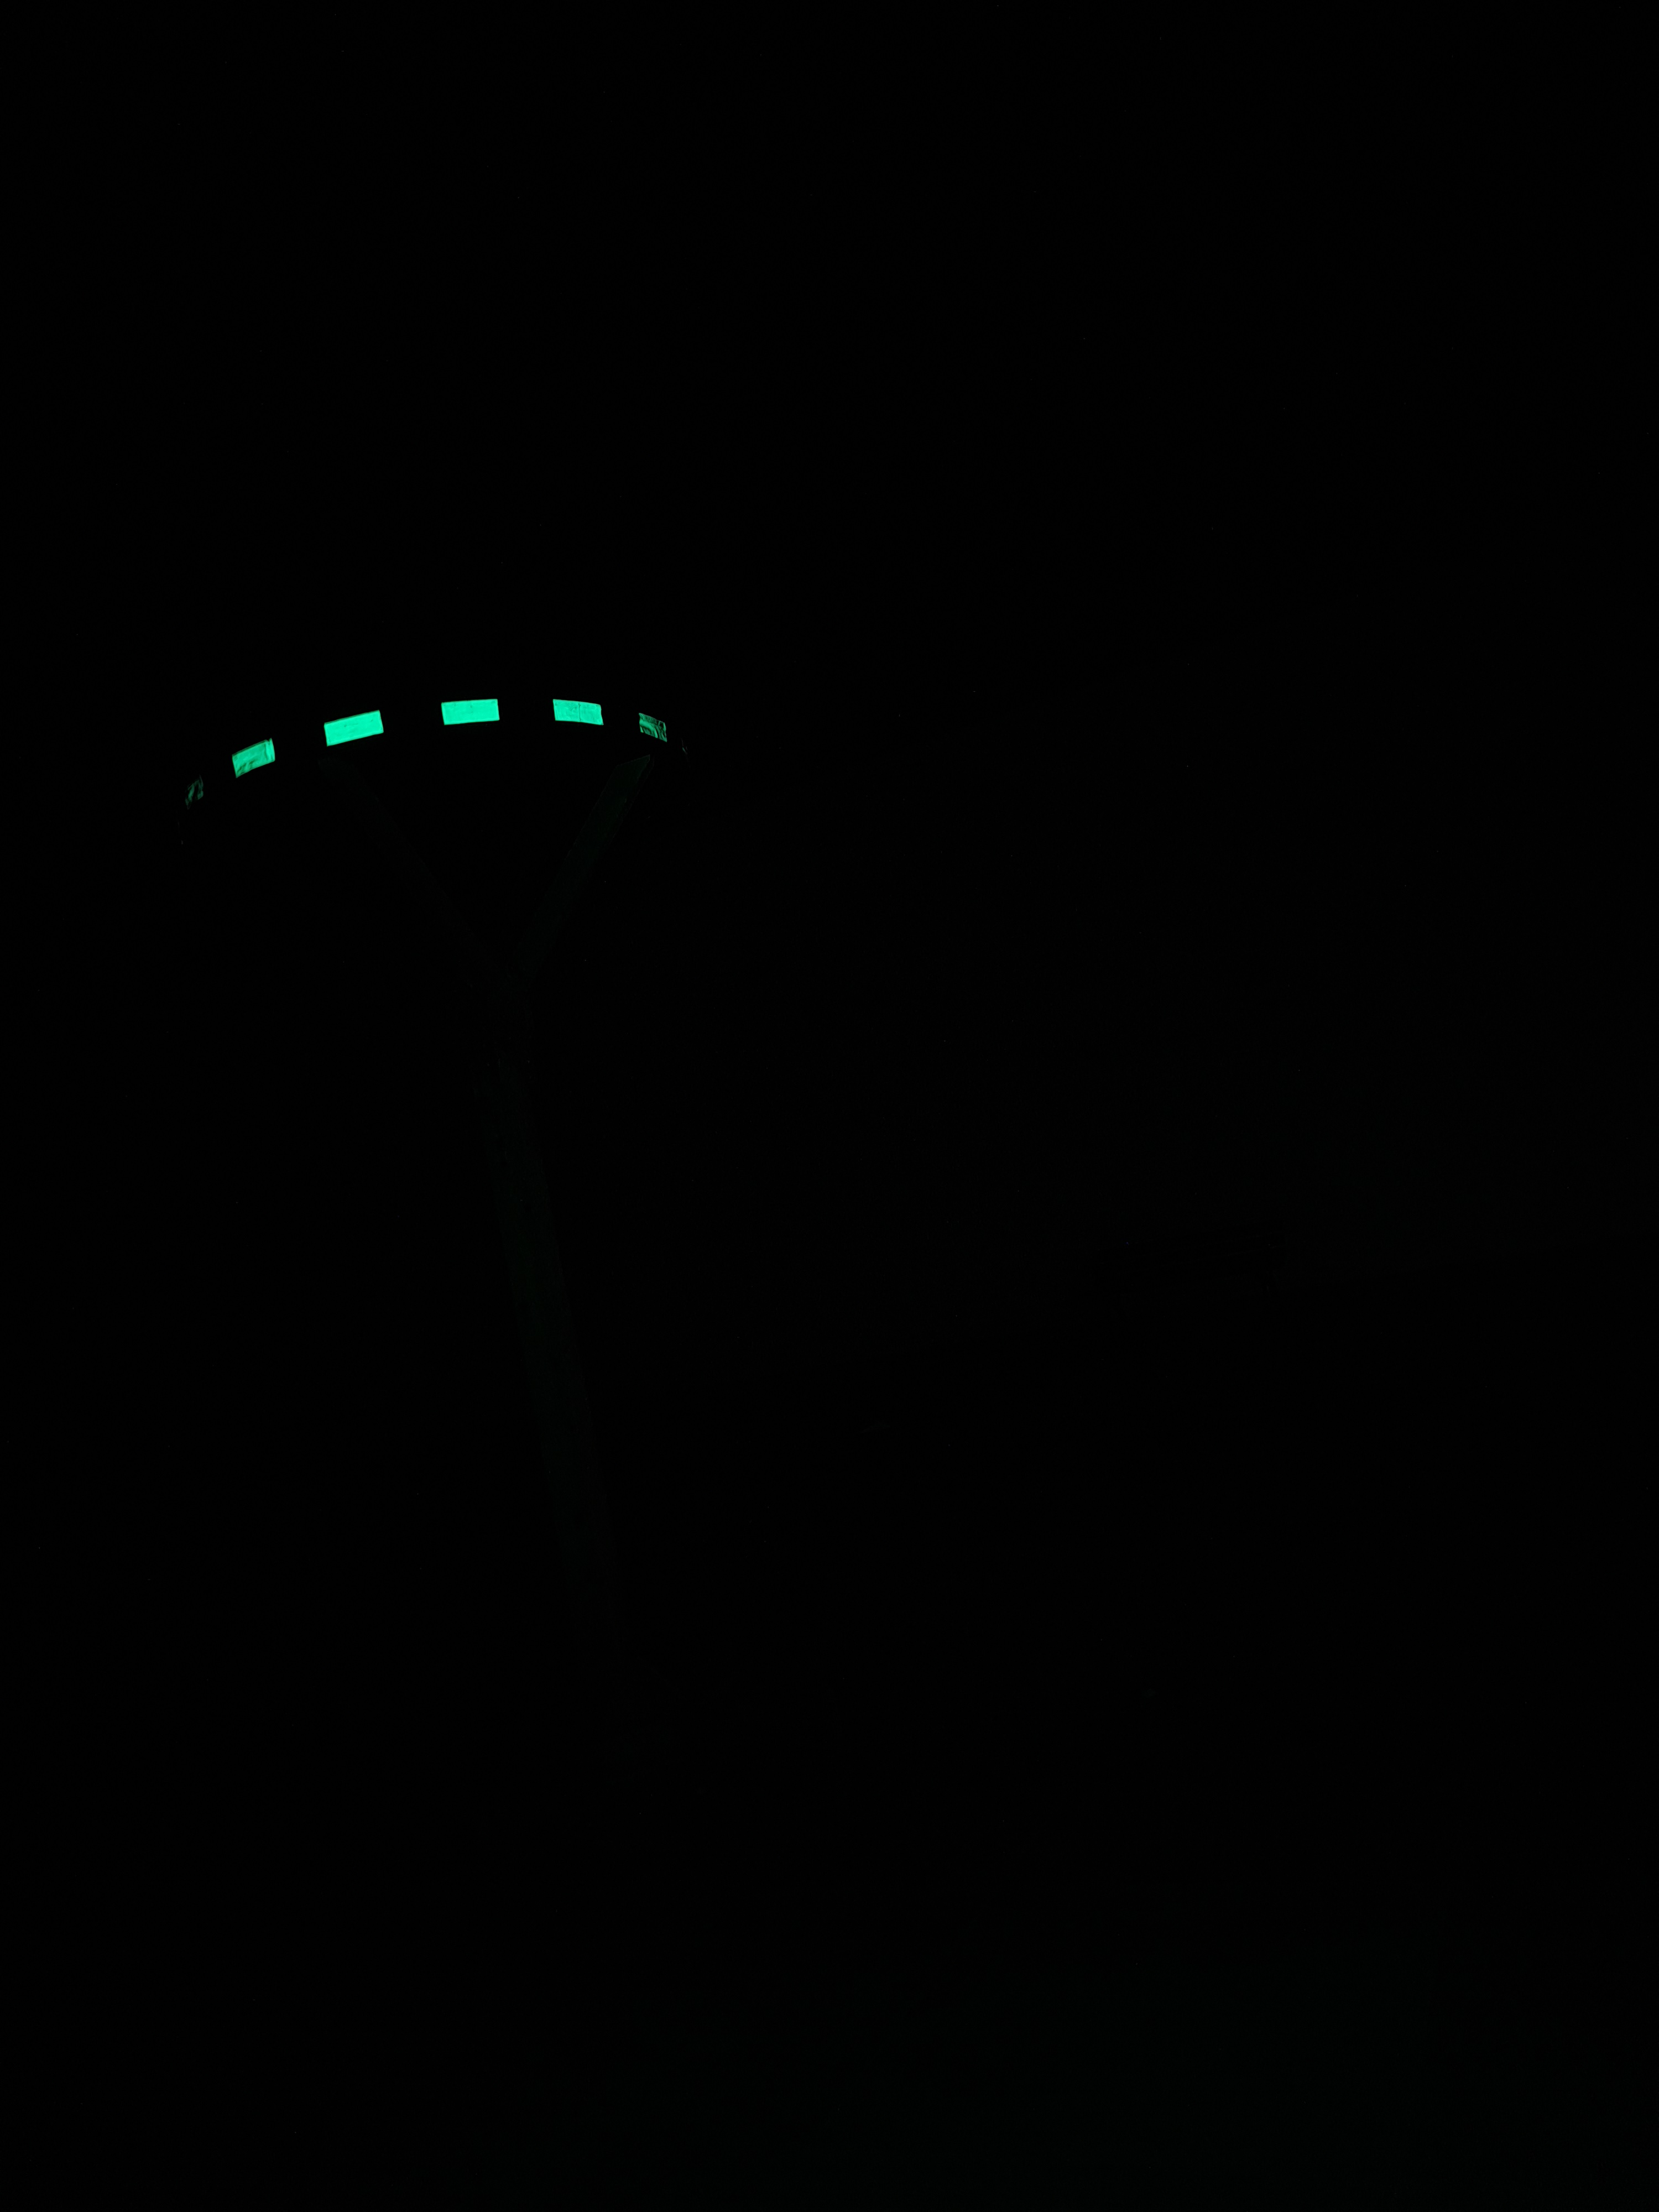hoop: (220, 695, 676, 789)
